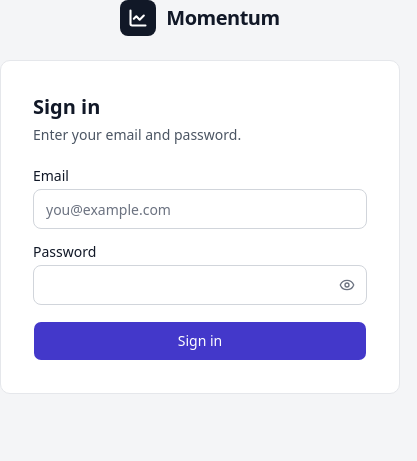
it: LoginCard › shows validation errors and does not sign in
This screenshot has width=417, height=461.
Type "nope" into the field labelled "Email" at (200, 209), box x1=33 y1=189 x2=367 y2=229
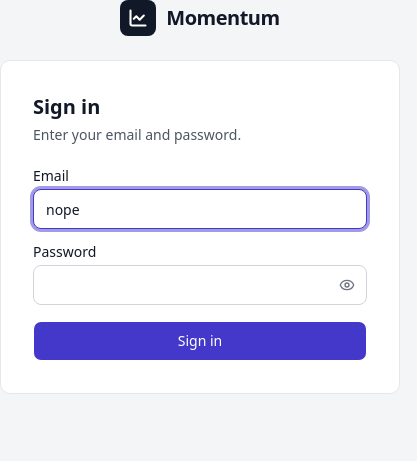
Click the button "Sign in" at (200, 341), box x1=33 y1=321 x2=367 y2=361
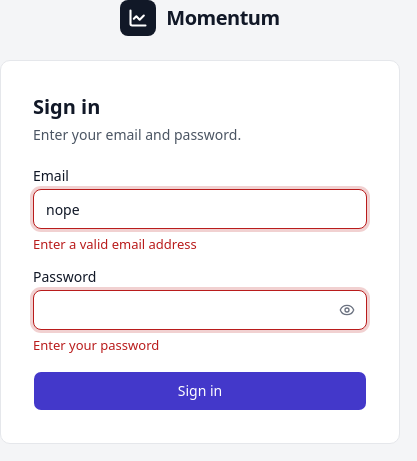
Check: the text "Enter a valid email address" is shown, box x1=33 y1=235 x2=197 y2=253
Check: the text "Enter your password" is shown, box x1=33 y1=336 x2=159 y2=354
